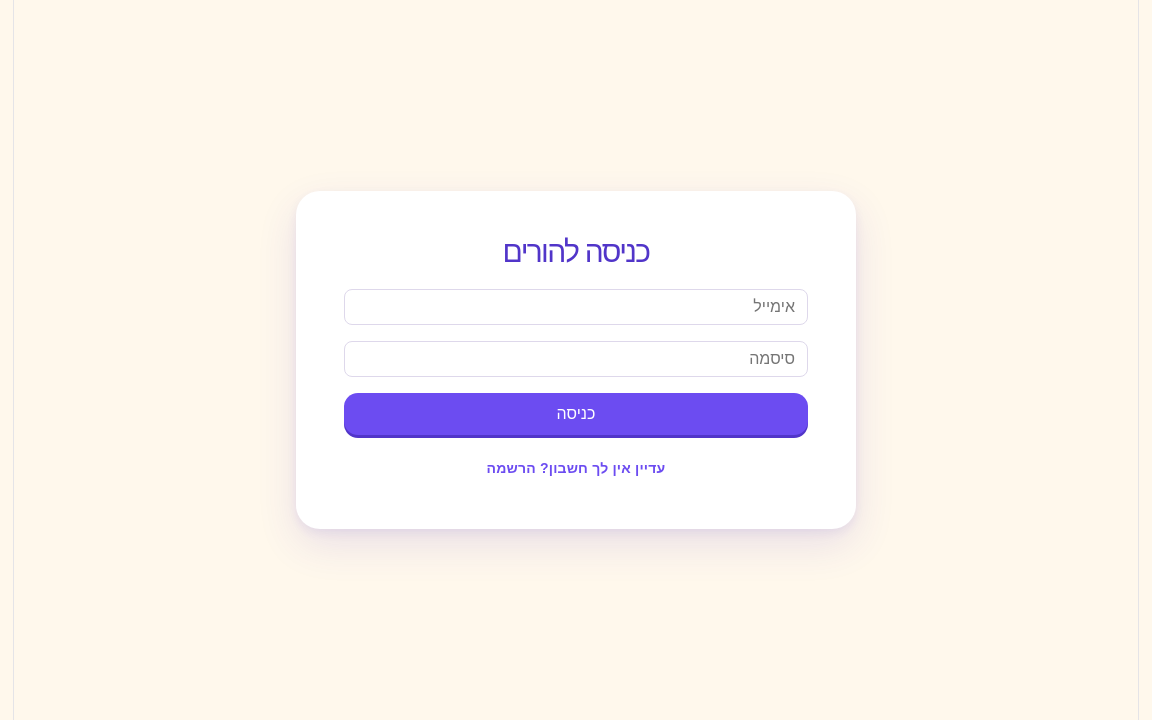
Scenario: App register flow › the login page links to /register and vice versa
The width and height of the screenshot is (1152, 720).
Click the link "עדיין אין לך חשבון? הרשמה". click: (576, 468)
box: [487, 460, 665, 476]
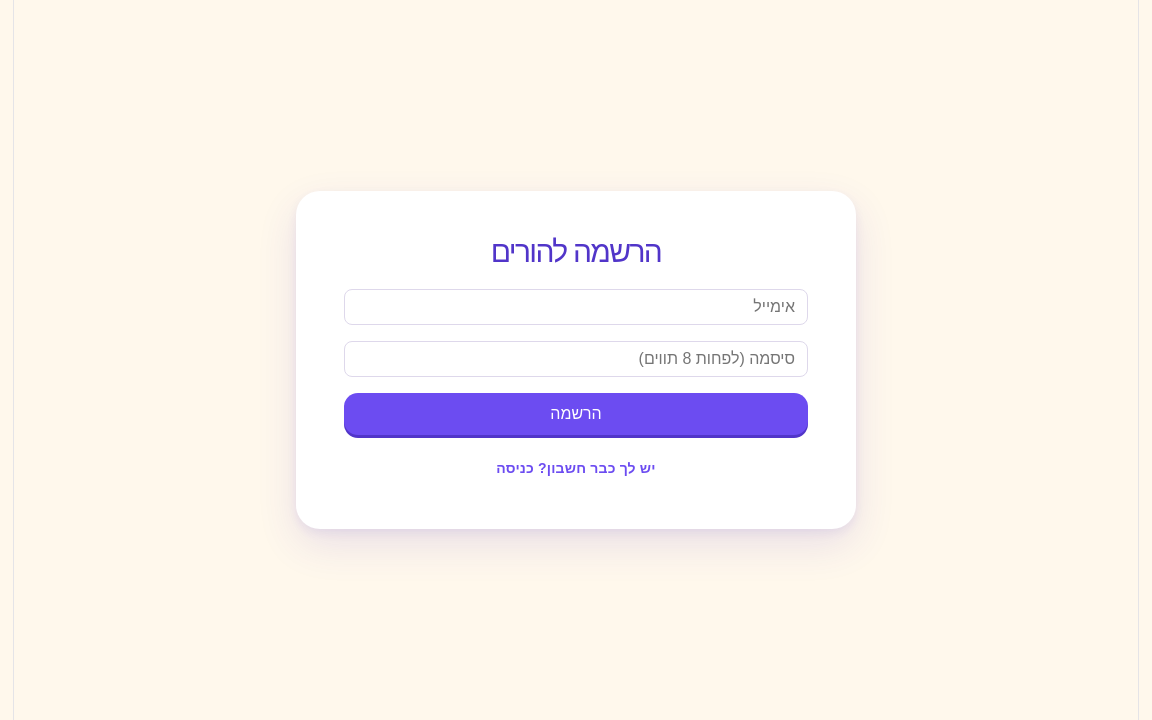
Expected: the heading "הרשמה להורים" is shown, [491, 235, 661, 268]
